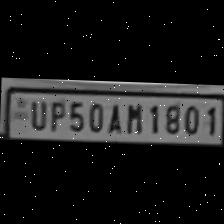0: (83, 98, 105, 132), (180, 100, 200, 134)
1: (142, 100, 162, 134), (202, 103, 218, 136)
5: (64, 96, 86, 132)
8: (159, 100, 181, 136)
A: (104, 99, 124, 133)
M: (120, 100, 144, 134)
P: (46, 97, 64, 131)
U: (25, 96, 47, 130)
